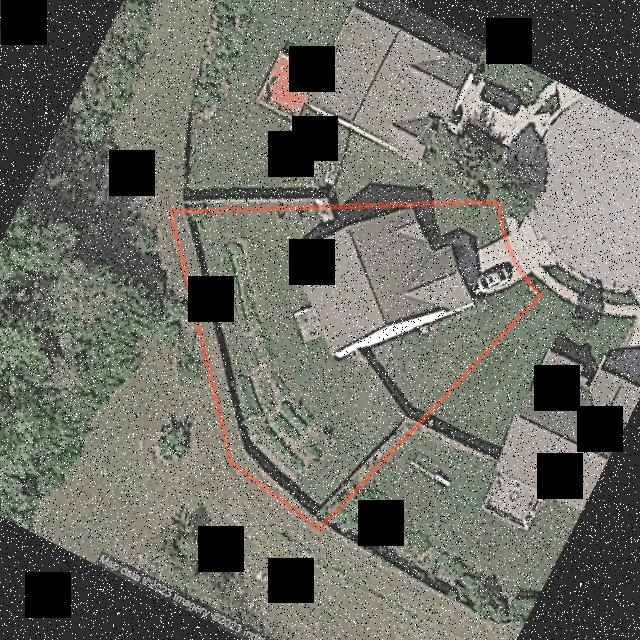Driveway: (456, 241, 522, 301)
Extra Driveway: (507, 213, 559, 274)
Extra Lawn: (526, 271, 549, 295), (540, 263, 565, 281), (503, 218, 511, 237)
Extra Sidewalk: (533, 267, 555, 288), (506, 217, 518, 234)
House: (294, 210, 472, 360)
Other: (293, 306, 322, 343)
